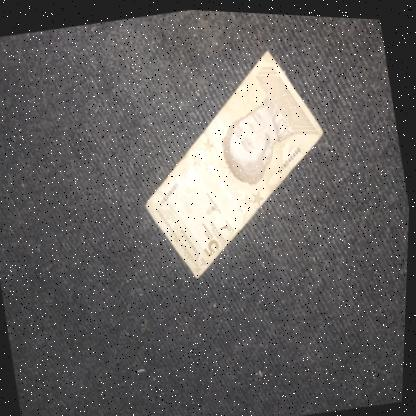five-front-vef: (118, 32, 350, 288)
